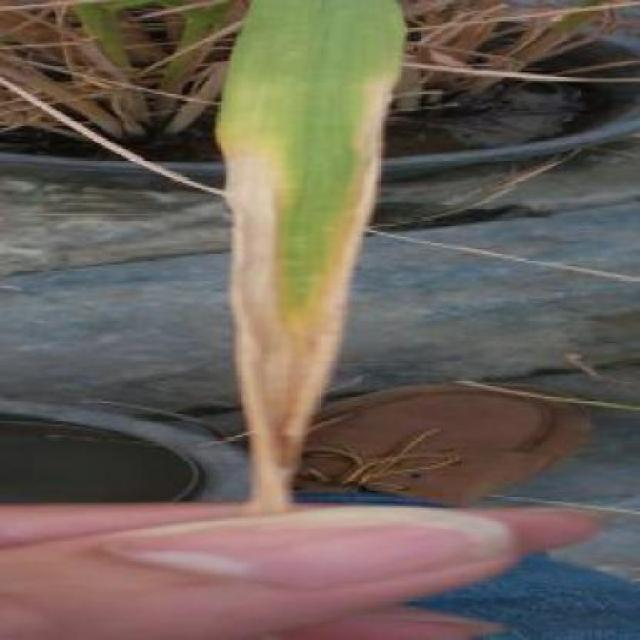Brown_Spot: (209, 32, 391, 496)
